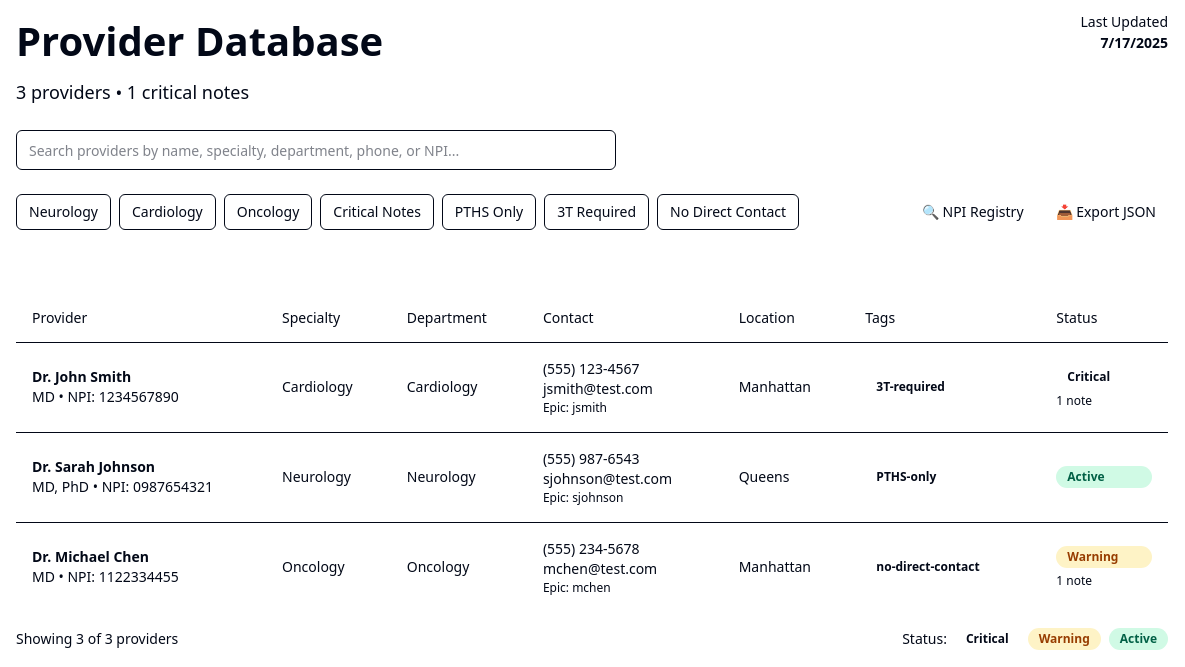
Test case: Providers Page - Core Functionality (TDD) › 3. Filter Logic (TDD) › filters by department when filter button clicked
This screenshot has width=1185, height=667.
Test behavior: Department filters should work
Click the button "Cardiology". click: point(167, 212)
box: x1=119 y1=194 x2=216 y2=230
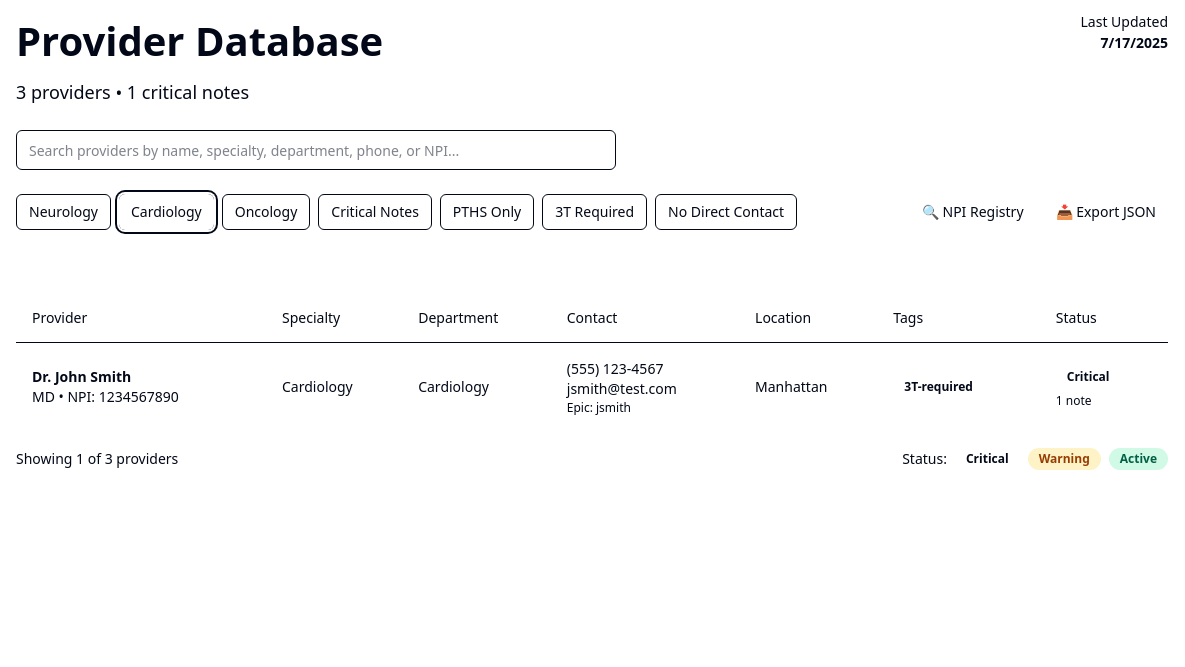
Check: the text "Dr. John Smith" is shown, box x1=32 y1=367 x2=131 y2=386
Check: the text "Dr. Sarah Johnson" is gone
Check: the text "Dr. Michael Chen" is gone
